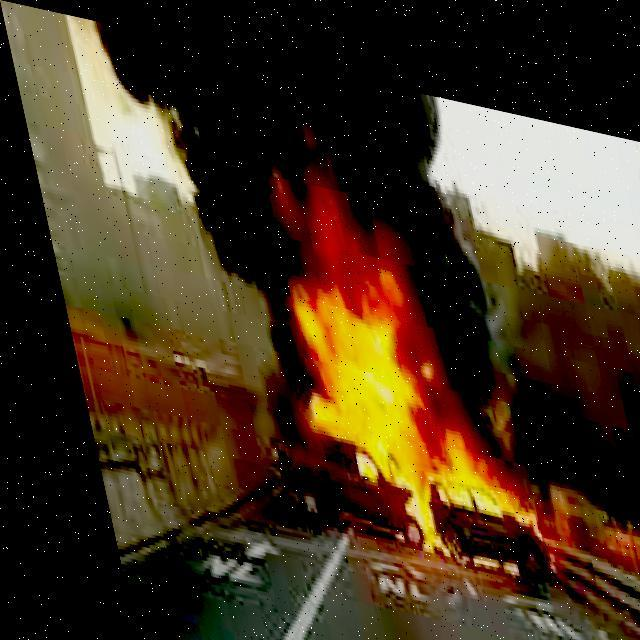Fire: (260, 223, 538, 571)
